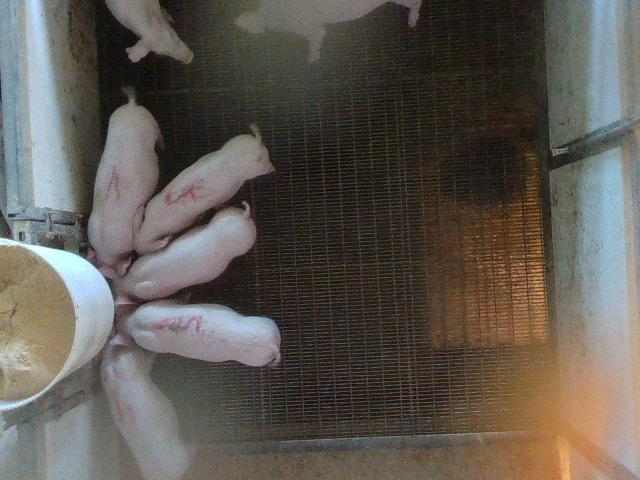pig-1: (89, 86, 161, 266)
pig-3: (109, 299, 281, 366)
pig-4: (101, 334, 190, 479)
pig-5: (135, 125, 274, 255)
